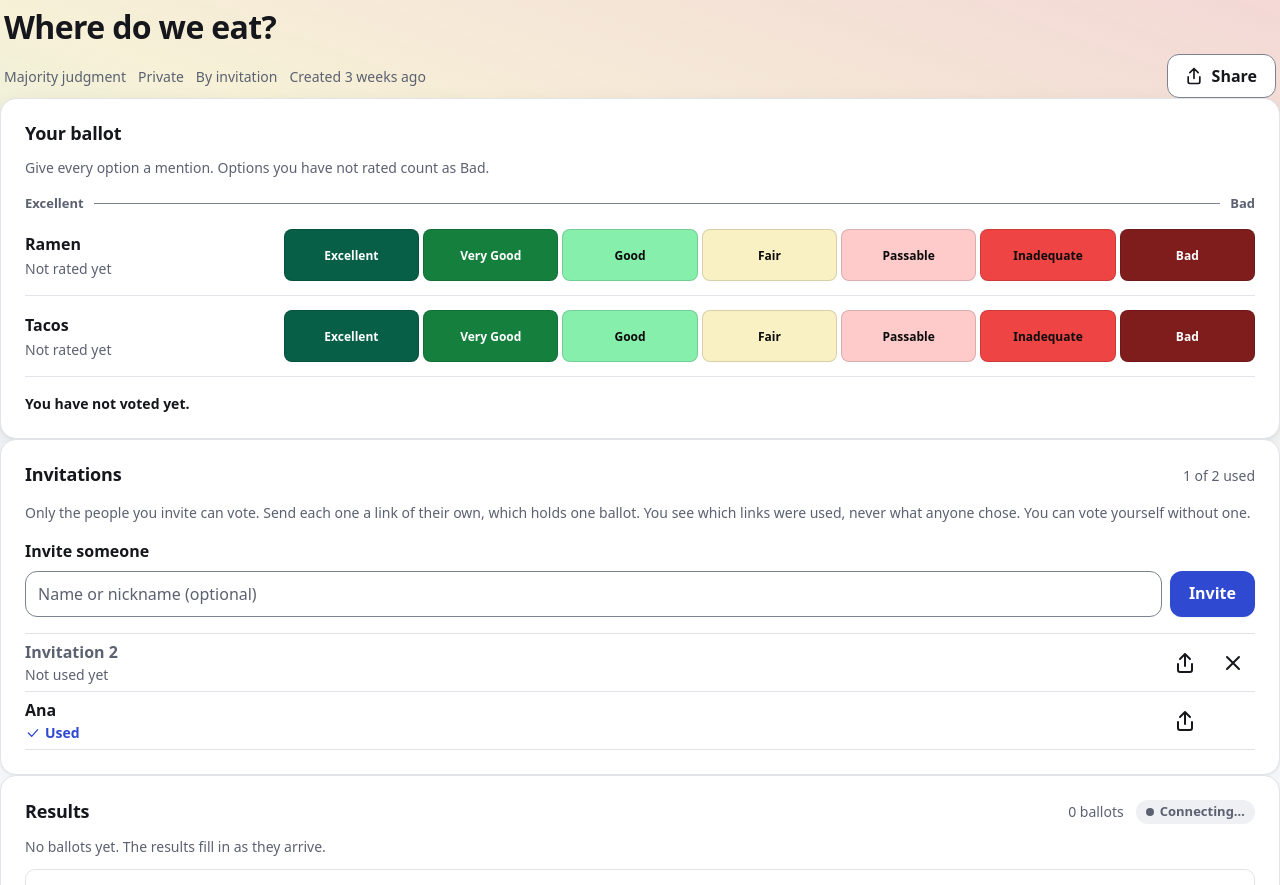
Scenario: a poll's invitations › can be taken back while nobody has voted with them, once the creator confirms
Check: the text "Ana" is shown, box [25, 699, 56, 721]
Click the button named "Take back the link for Invitation 2".
click(1233, 663)  # box [1211, 641, 1255, 685]
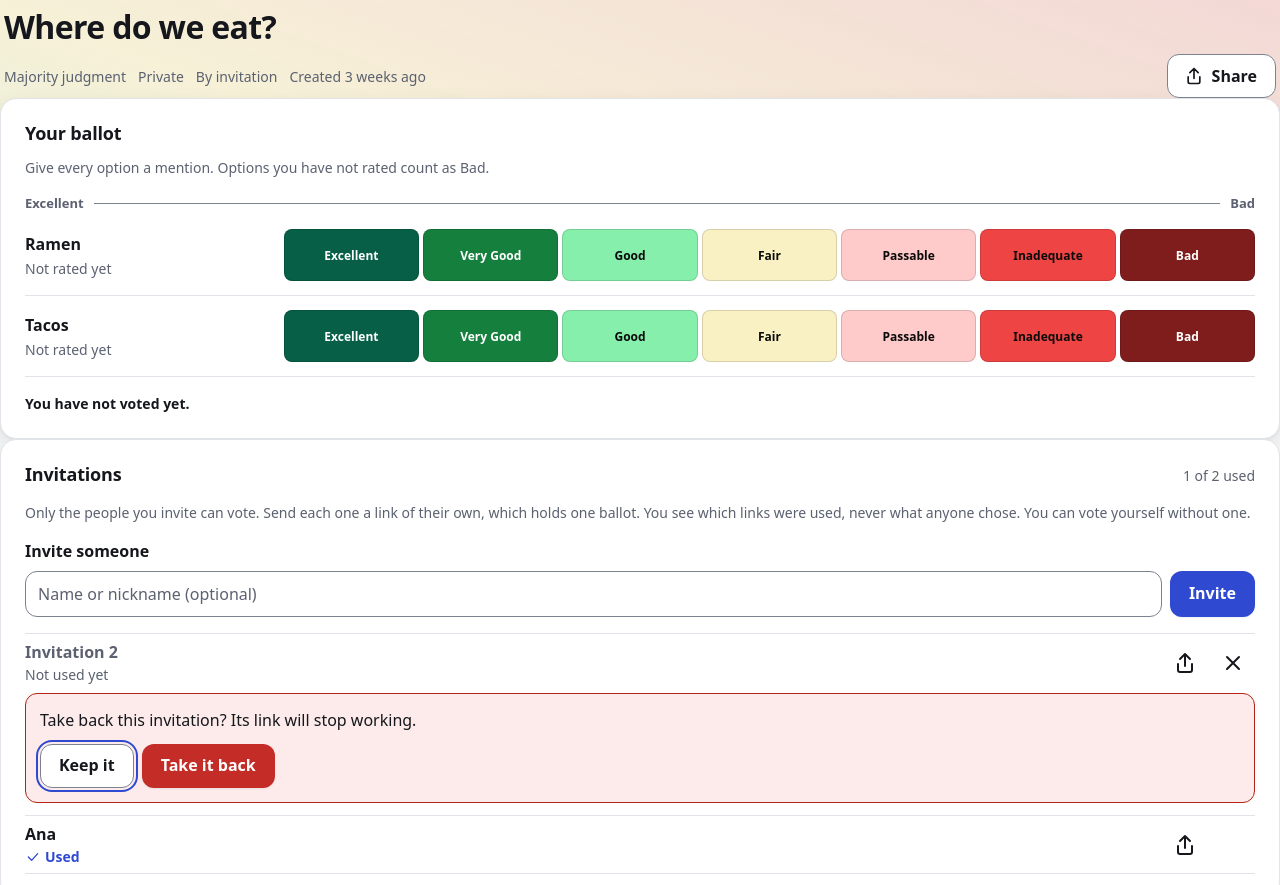
Click the button "Take it back".
click(208, 766)  # box [142, 744, 275, 788]
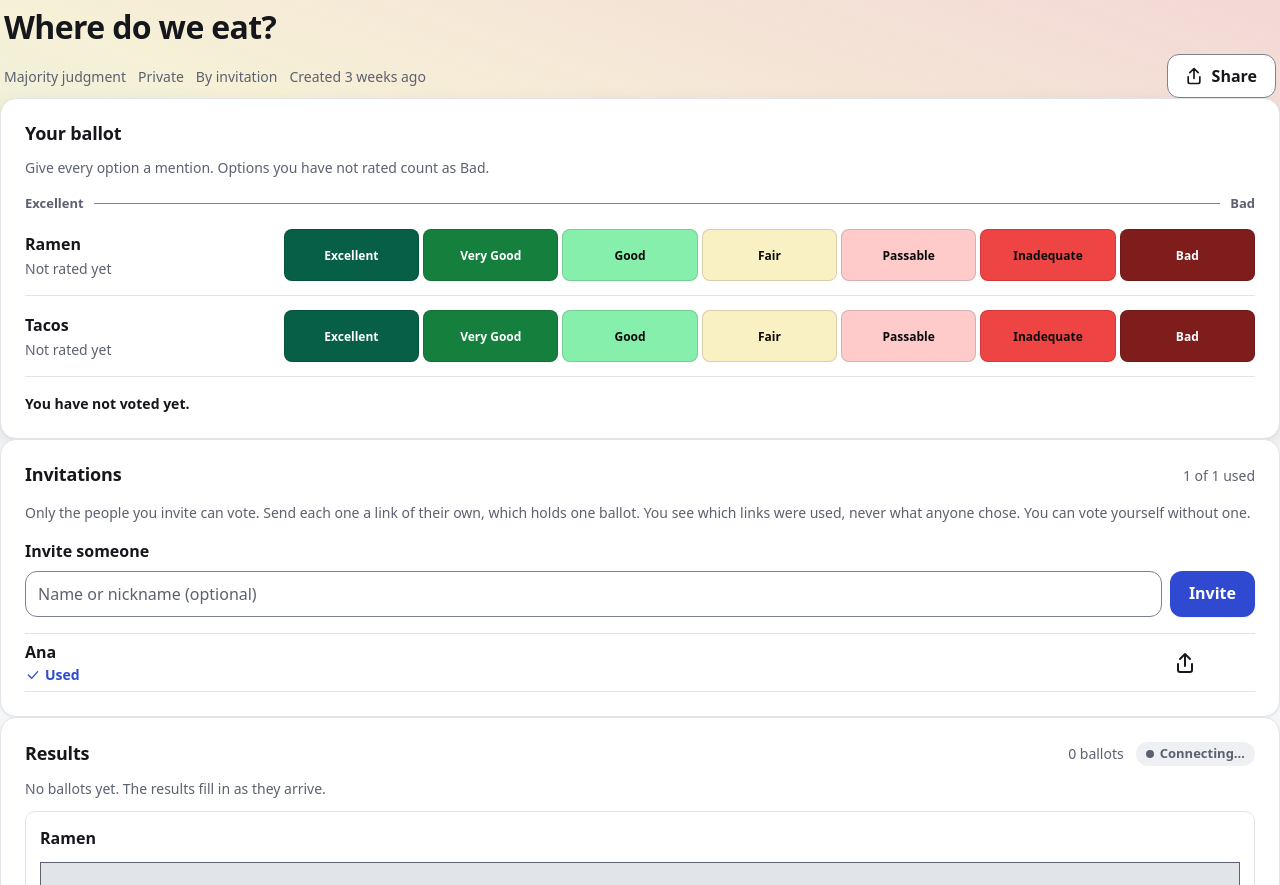
Check: the text "1 of 1 used" is shown, box [1183, 465, 1255, 486]
Check: the text "Invitation 2" is gone
